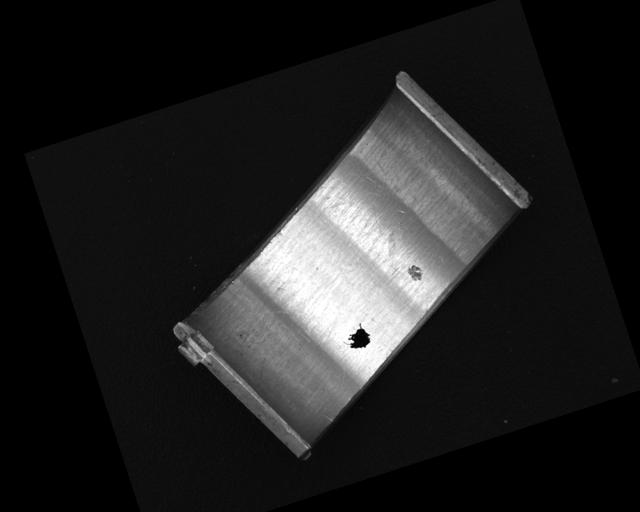blot: (337, 321, 373, 354)
bruise: (404, 261, 425, 284)
nick: (321, 411, 334, 425)
